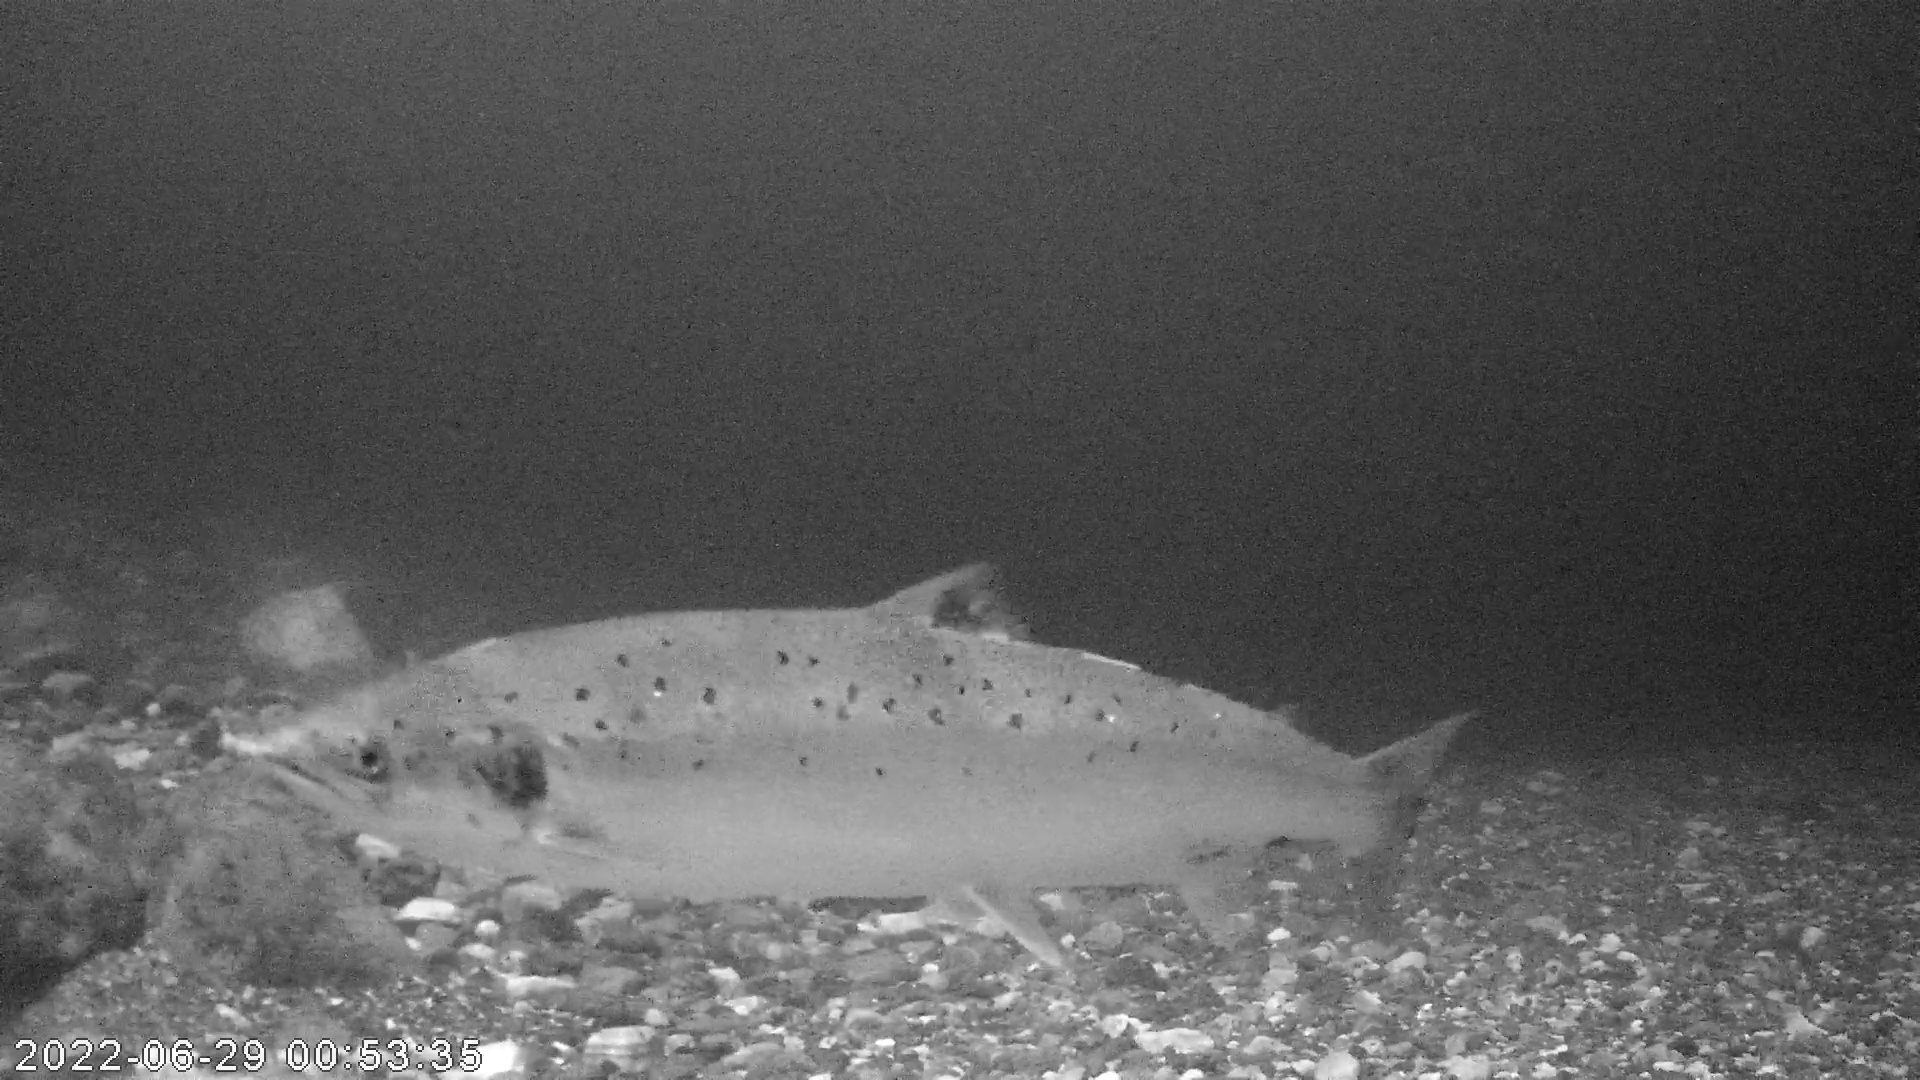salmon: (251, 550, 1484, 971)
